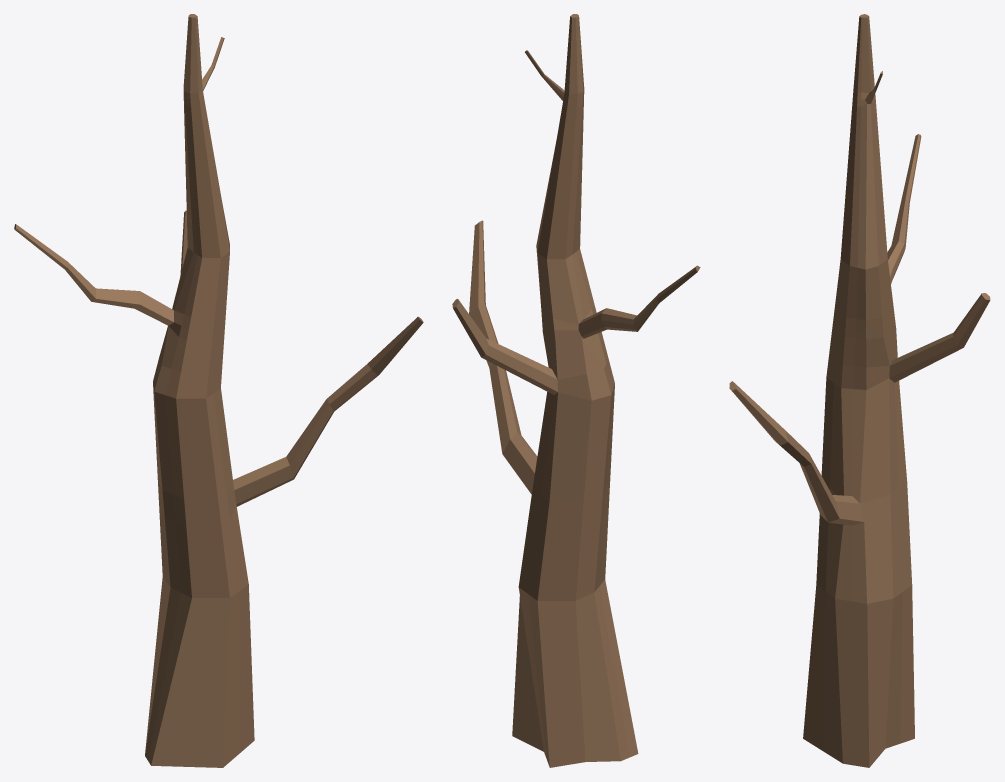
File: MedisBeLapuSviesus.glb
3 views of the same model, side by side, from view 1: azimuth 30°, elevation 25°; view 2: azimuth 150°, elevation 25°; view 3: azimuth 270°, elevation 25° (orthographic).
Parts seen in each view (by area): view 1: MedisBeLapuSviesus; view 2: MedisBeLapuSviesus; view 3: MedisBeLapuSviesus.
Part boxes in pixels (<box>): MedisBeLapuSviesus: <box>14,14,423,767</box>; MedisBeLapuSviesus: <box>452,14,700,767</box>; MedisBeLapuSviesus: <box>729,14,990,767</box>.
Size of the model in its own units: 1.04 by 2.3 by 0.7539.
